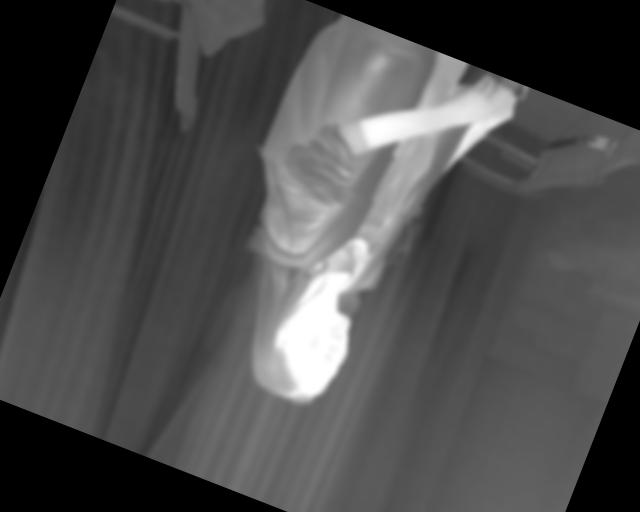face: (240, 286, 361, 416)
